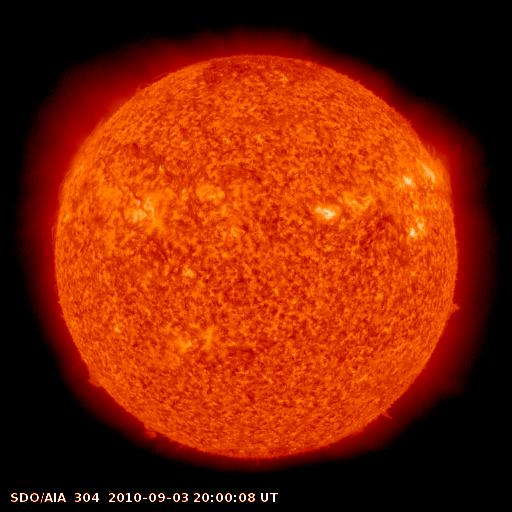prominence: (418, 137, 459, 198), (79, 363, 112, 393), (136, 415, 164, 446)
